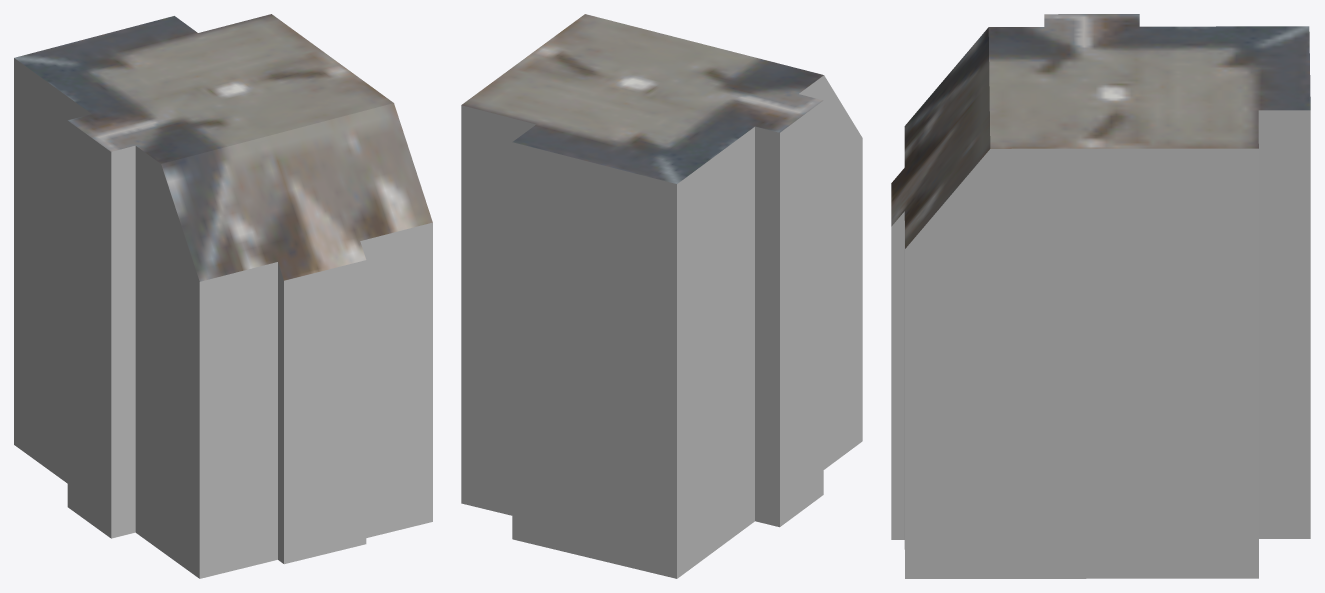
Rendered from DEBW_0010007Tx7Z.gltf.
The picture shows the model from 3 angles, left to right: view 1: azimuth 30°, elevation 25°; view 2: azimuth 150°, elevation 25°; view 3: azimuth 270°, elevation 25°; orthographic projection. The views are drawn at different scales.
Visible parts, largest first — view 1: Z_UP; view 2: Z_UP; view 3: Z_UP.
Part boxes in pixels (bbox=[...]): Z_UP: bbox=[14, 14, 432, 578]; Z_UP: bbox=[461, 14, 862, 578]; Z_UP: bbox=[891, 14, 1310, 578].
Size of the model in its own units: 12.7 by 18.31 by 16.18.
Materials: 2 (1 with a texture image).
